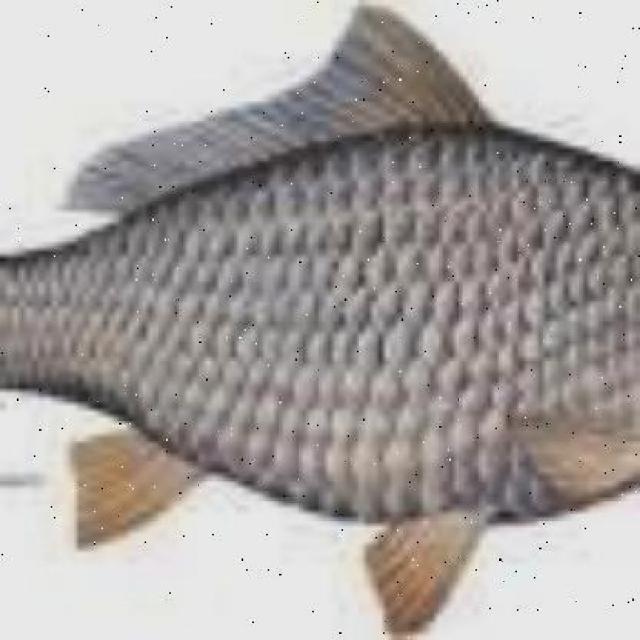ikan-mas: (15, 43, 640, 574)
